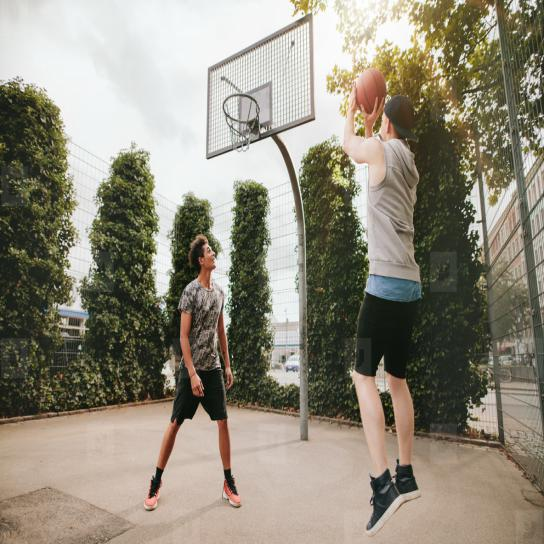basketball-hoop: (223, 92, 260, 153)
